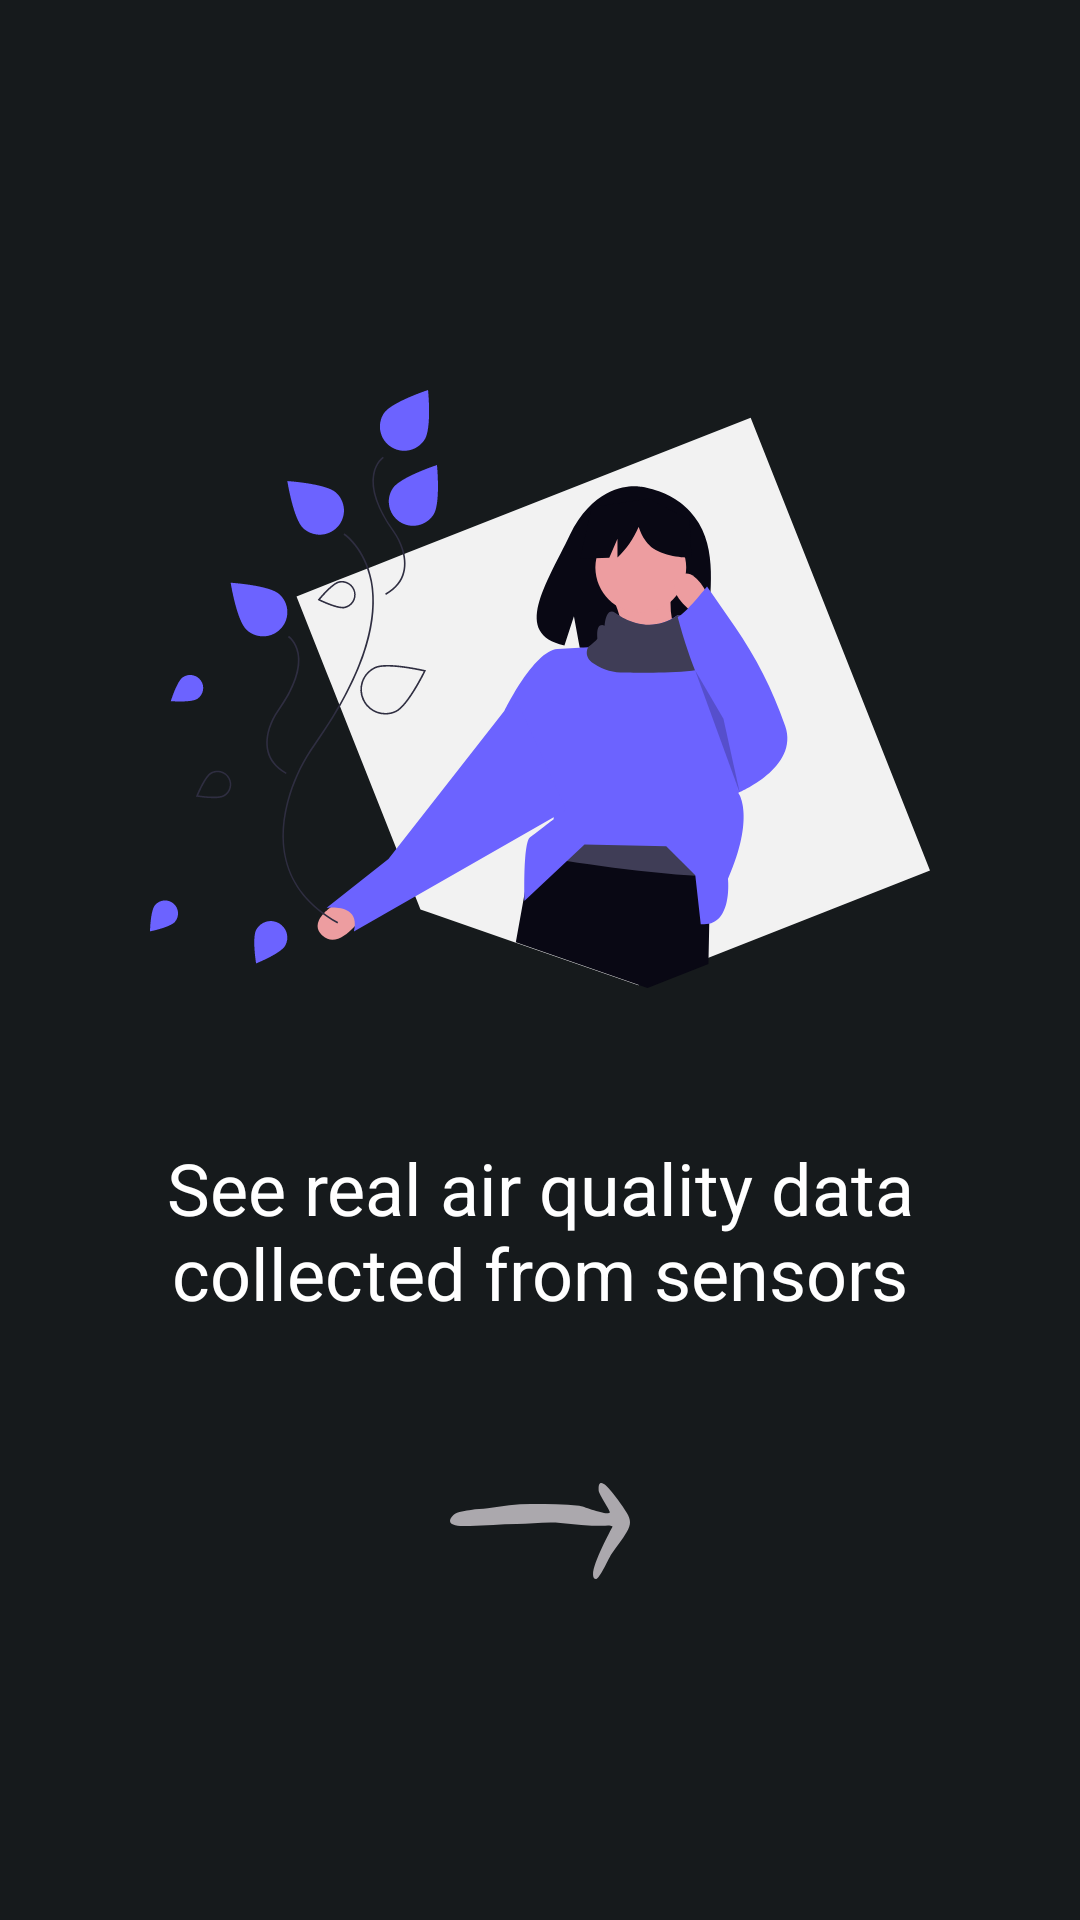

Icon click points for this 1080x1920 phone screenshot, format [x,y]:
arrow: [540,1531]
